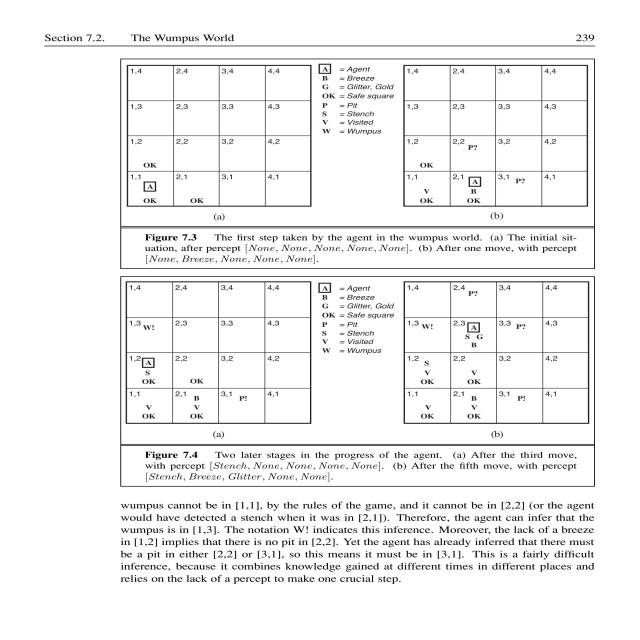diagram: (63, 52, 592, 488)
